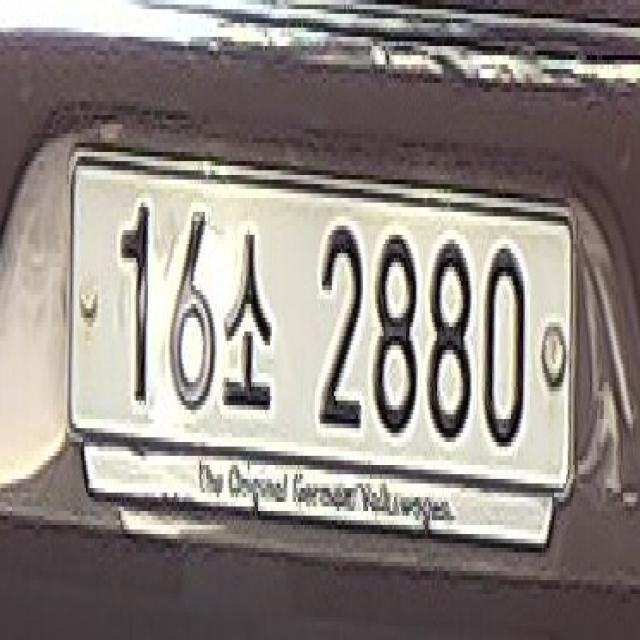0: (478, 235, 530, 460)
1: (106, 180, 162, 423)
2: (316, 212, 364, 446)
6: (167, 198, 218, 428)
8: (425, 221, 475, 451), (370, 216, 418, 446)
license_plate: (62, 129, 580, 566)
so: (222, 207, 273, 428)
